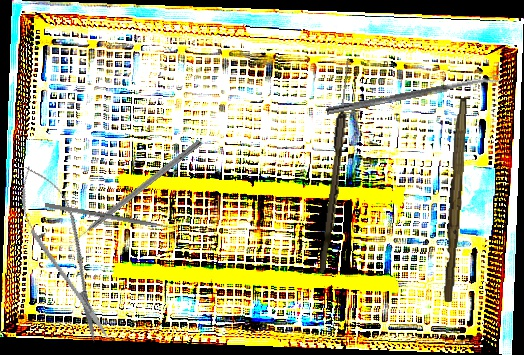Hook Surgical: (67, 138, 202, 246)
Micro Scissor: (5, 156, 124, 351)
Pusher: (44, 202, 185, 233)
Scalpel Handle: (442, 97, 468, 303)
Surgical Spoon: (325, 74, 502, 116), (319, 57, 353, 274)
